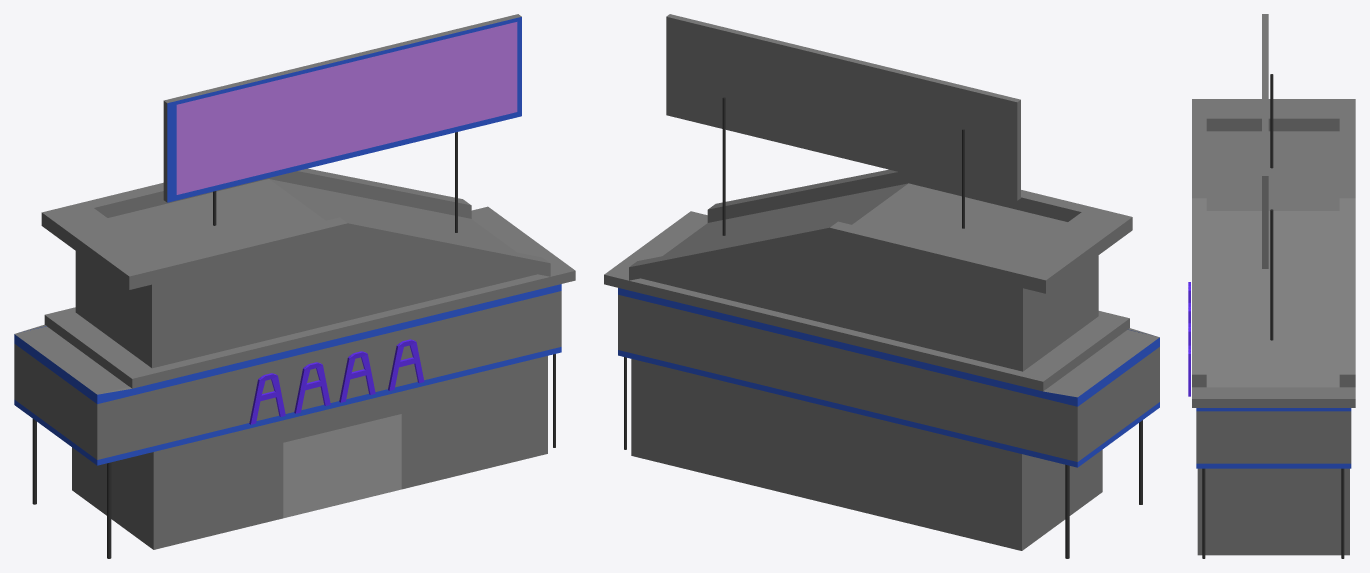
The model's file is Building 5.fbx.
The picture shows the model from 3 angles, left to right: view 1: azimuth 30°, elevation 25°; view 2: azimuth 150°, elevation 25°; view 3: azimuth 270°, elevation 25°; orthographic projection. The views are drawn at different scales.
Visible parts, largest first — view 1: Building5, Billboard3; view 2: Building5, Billboard3; view 3: Building5, Billboard3.
Boxes of the visible parts, x1,y1,x2,y2 form: Building5: (14, 168, 575, 558); Billboard3: (163, 14, 521, 232); Building5: (604, 169, 1159, 558); Billboard3: (666, 14, 1020, 235); Building5: (1188, 99, 1355, 558); Billboard3: (1262, 14, 1273, 340).
Size of the model in its own units: 15.95 by 13.12 by 5.19.
